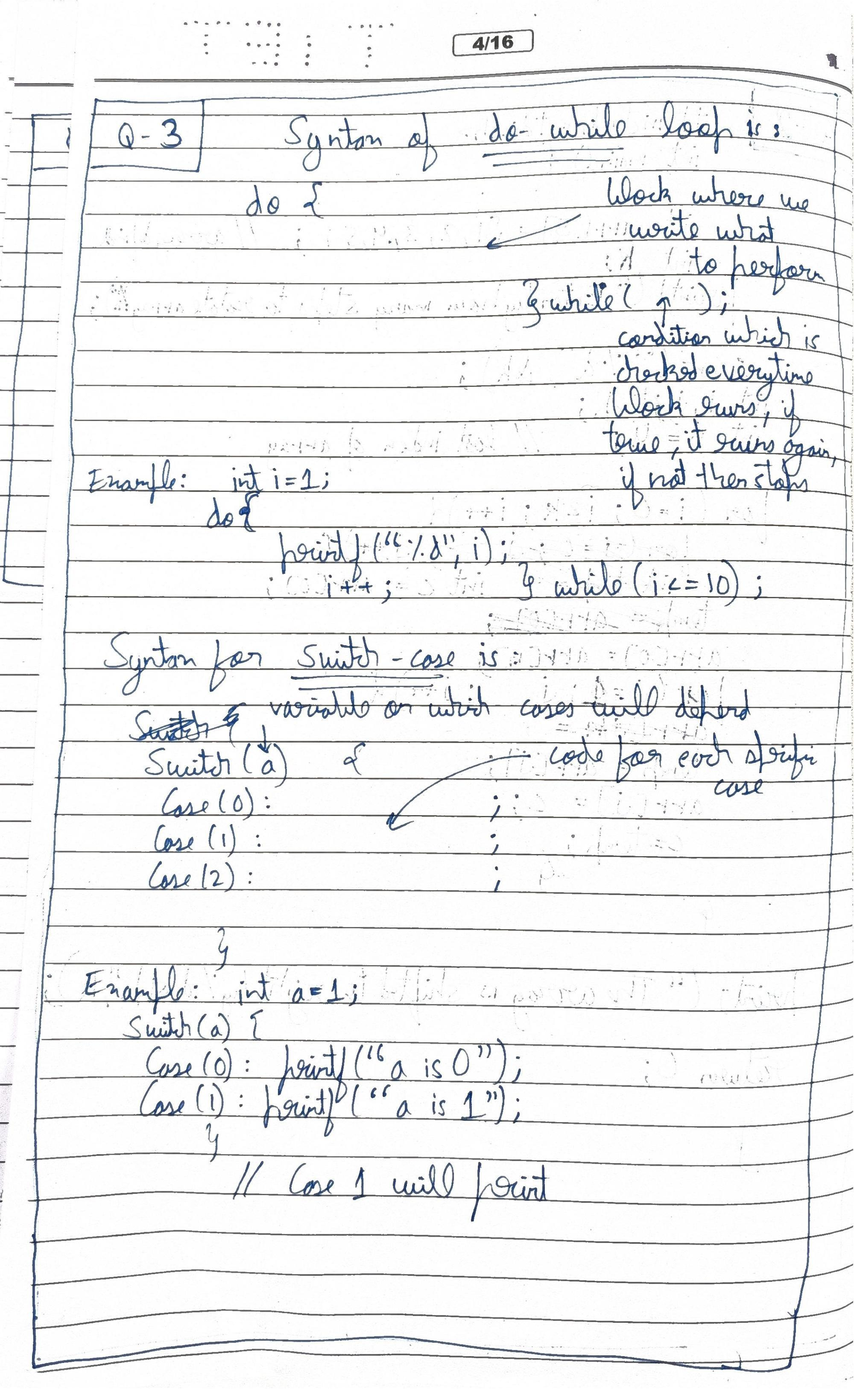cuttings: (127, 700, 249, 748)
